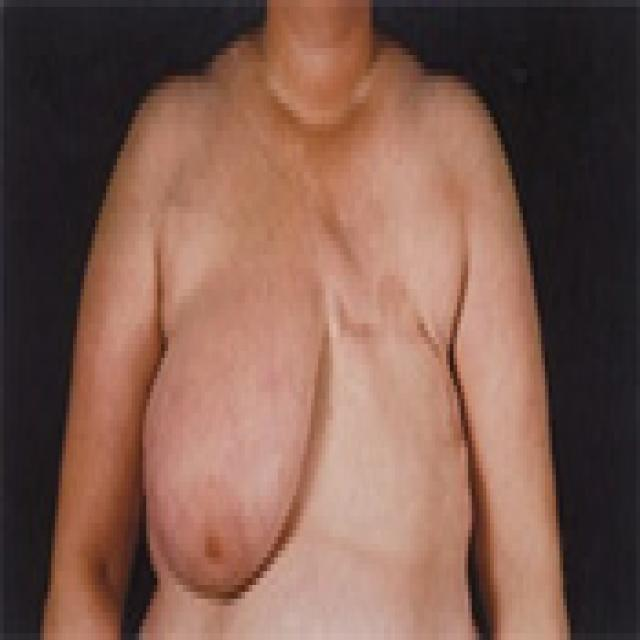Seno herido: (332, 240, 478, 487)
Seno ileso: (137, 239, 329, 627)
